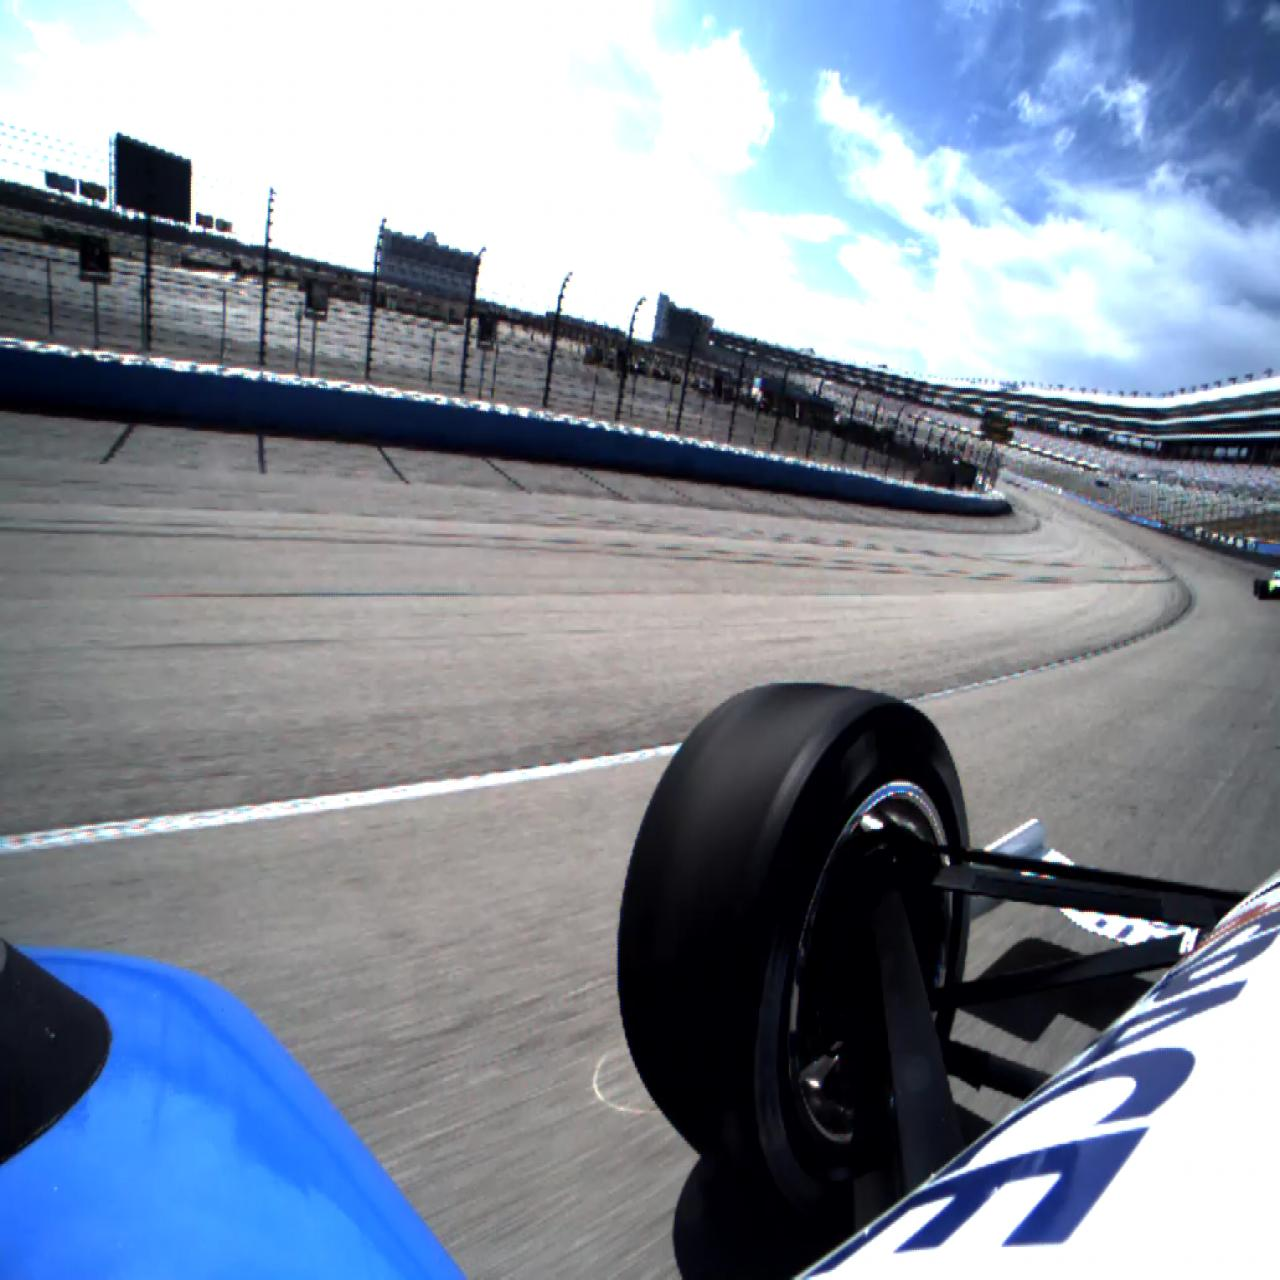AV: (1253, 570, 1280, 600)
Wheel: (618, 683, 973, 1199), (1258, 580, 1268, 600), (1253, 578, 1260, 595)
